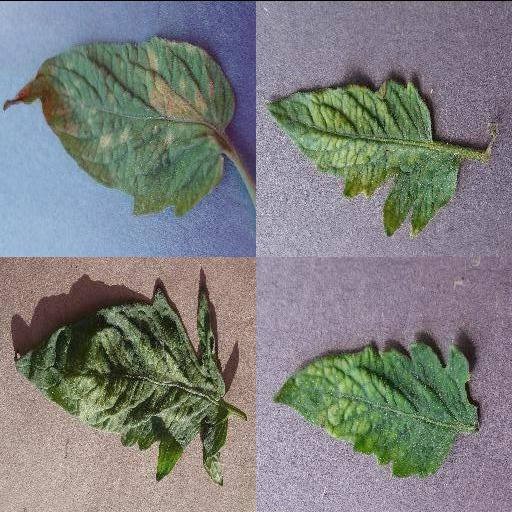Leaf Mold: (3, 34, 235, 217)
Mosaic Virus: (265, 76, 459, 236), (274, 338, 480, 480)
Spider Mites: (11, 289, 229, 483)
